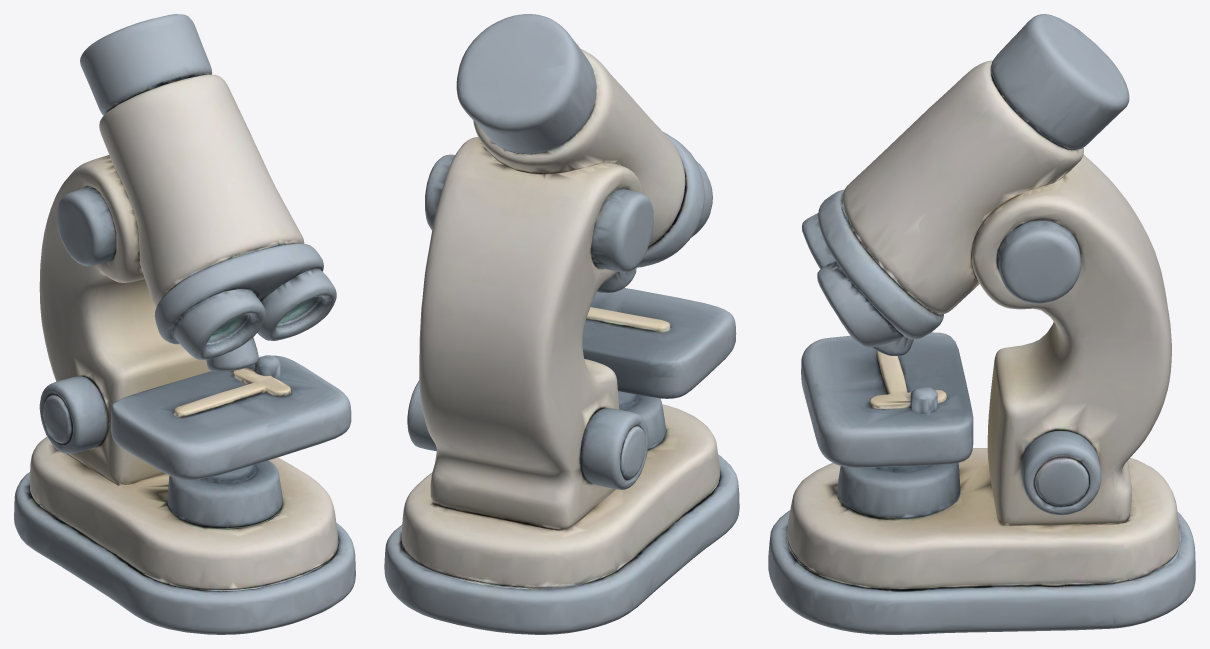
The picture shows the model from 3 angles, left to right: view 1: azimuth 30°, elevation 25°; view 2: azimuth 150°, elevation 25°; view 3: azimuth 270°, elevation 25°; orthographic projection. The views are drawn at different scales.
Parts seen in each view (by area): view 1: tripo_node_6338ef29-adcb-43fc-88b0-097047b055fe; view 2: tripo_node_6338ef29-adcb-43fc-88b0-097047b055fe; view 3: tripo_node_6338ef29-adcb-43fc-88b0-097047b055fe.
Part boxes in pixels (box(x1,y1,x2,y2)): tripo_node_6338ef29-adcb-43fc-88b0-097047b055fe: box(14, 14, 355, 634); tripo_node_6338ef29-adcb-43fc-88b0-097047b055fe: box(384, 14, 739, 634); tripo_node_6338ef29-adcb-43fc-88b0-097047b055fe: box(768, 14, 1195, 634).
Size of the model in its own units: 0.4541 by 0.9999 by 0.6956.
Materials: 1 (1 with a texture image).
